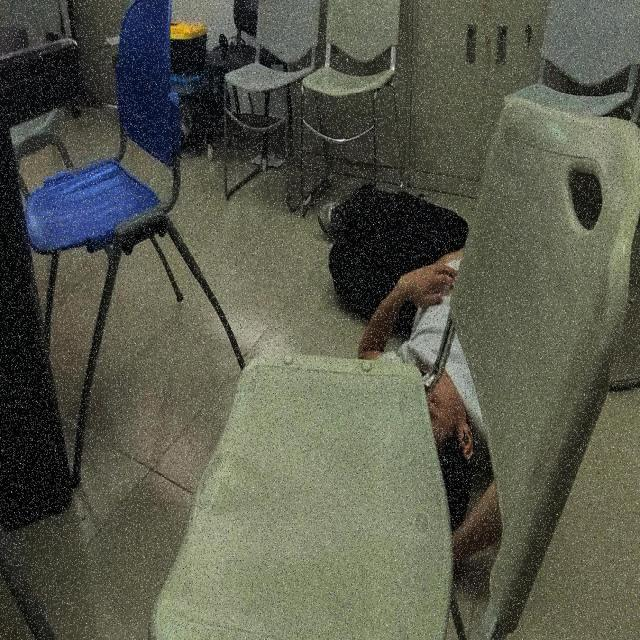fall: (315, 174, 502, 528)
